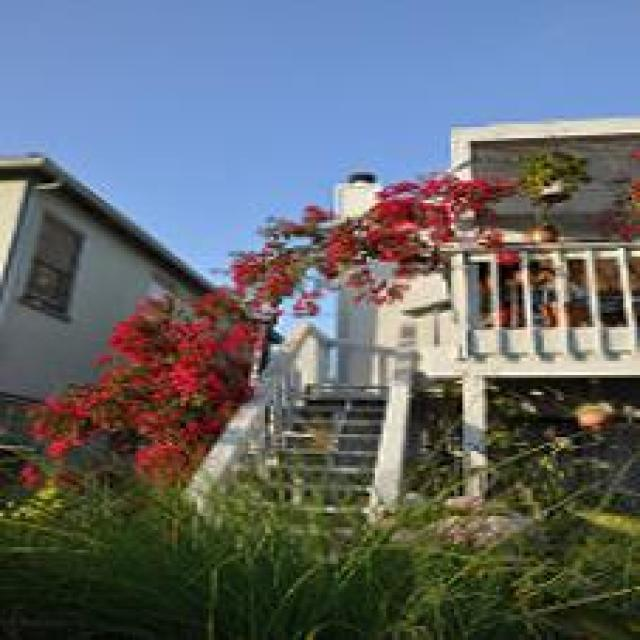upstair: (227, 336, 390, 548)
